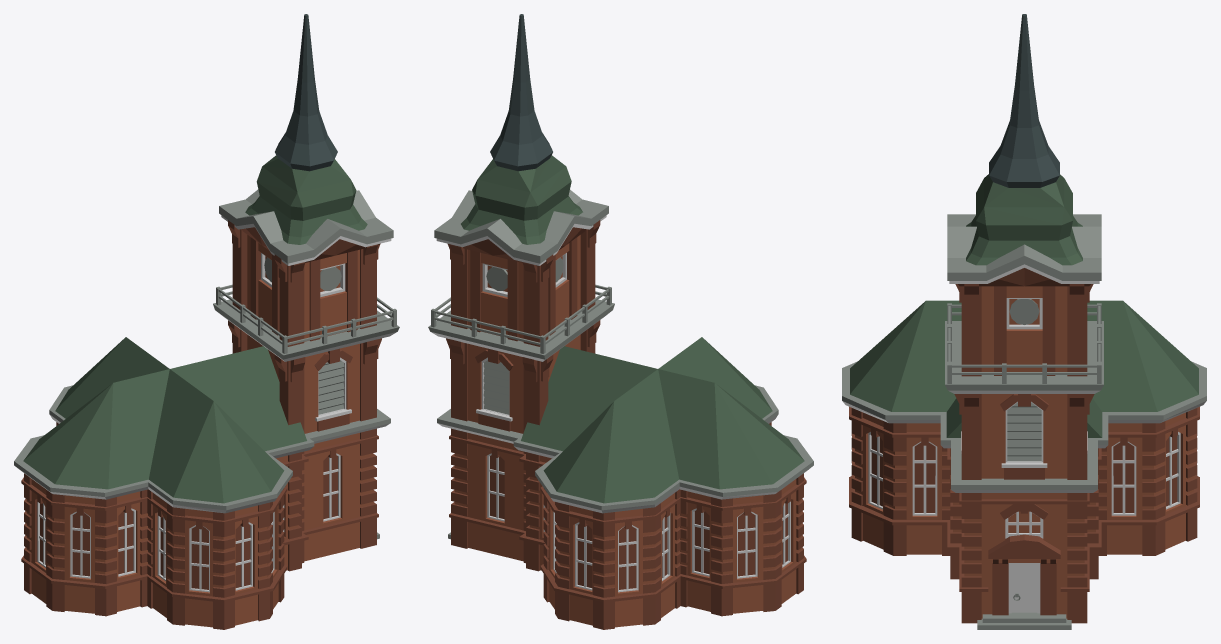
File: Church.glb
The picture shows the model from 3 angles, left to right: view 1: azimuth 30°, elevation 25°; view 2: azimuth 150°, elevation 25°; view 3: azimuth 270°, elevation 25°; orthographic projection. The views are drawn at different scales.
Parts seen in each view (by area): view 1: Cube_211; view 2: Cube_211; view 3: Cube_211.
Boxes of the visible parts, x1,y1,x2,y2 form: Cube_211: [14, 14, 399, 629]; Cube_211: [428, 14, 813, 629]; Cube_211: [842, 14, 1206, 629].
Bounding box in the file's own units: 21.74 × 32.58 × 18.37.
2 materials, 2 textured.
